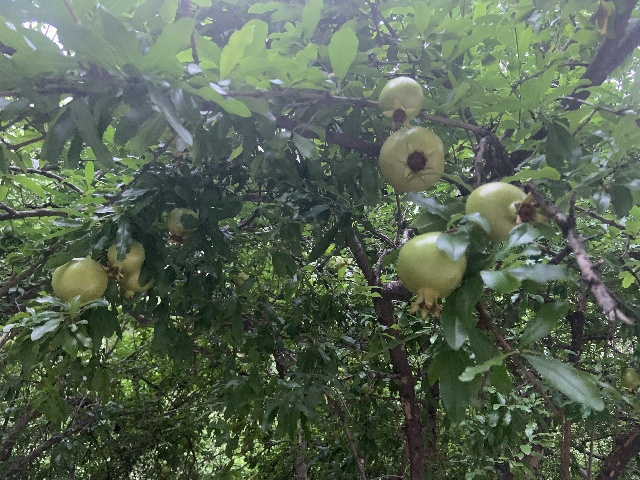mid-growth: (396, 230, 466, 320), (464, 181, 548, 242), (378, 126, 444, 192), (52, 256, 106, 309), (377, 76, 423, 129), (101, 239, 145, 281), (162, 208, 199, 249), (119, 268, 154, 300), (620, 367, 639, 391), (326, 255, 350, 271), (361, 382, 371, 396), (160, 466, 170, 477)
